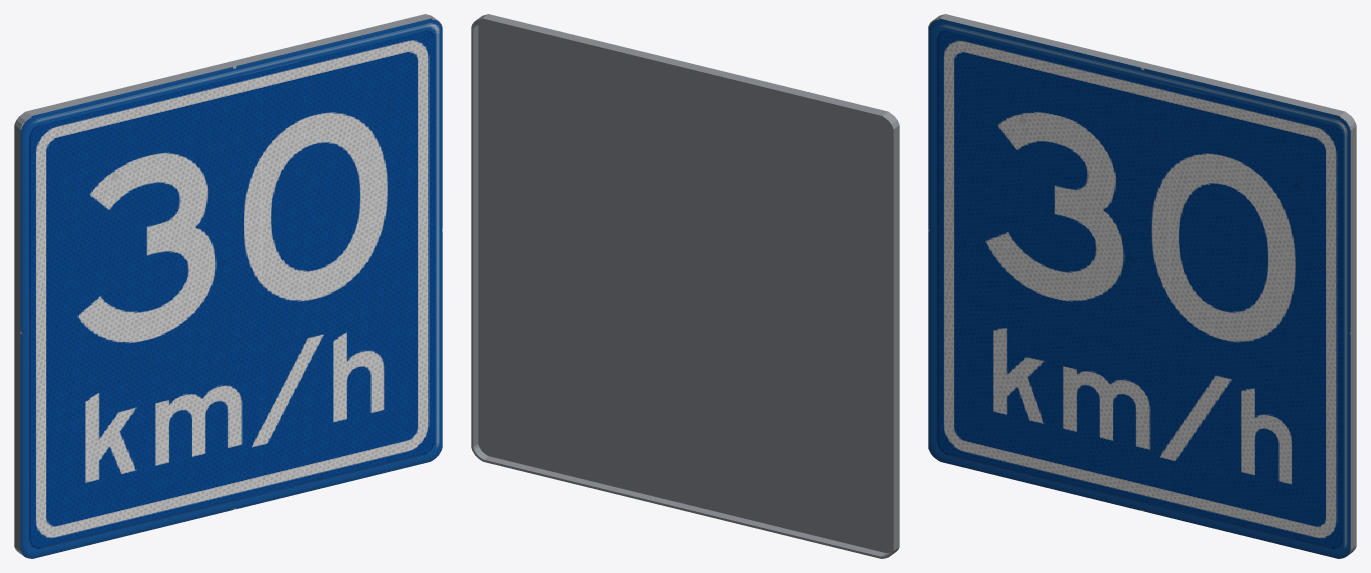
3 renders of one model, left to right at view 1: azimuth 30°, elevation 25°; view 2: azimuth 150°, elevation 25°; view 3: azimuth 330°, elevation 25°, orthographic.
Parts seen in each view (by area): view 1: cat_e606e8e49ec9f3db; view 2: cat_e606e8e49ec9f3db; view 3: cat_e606e8e49ec9f3db.
Part boxes in pixels (left/top/right/bottom): cat_e606e8e49ec9f3db: left=14, top=14, right=442, bottom=558; cat_e606e8e49ec9f3db: left=471, top=14, right=899, bottom=558; cat_e606e8e49ec9f3db: left=928, top=14, right=1356, bottom=558.
Size of the model in its own units: 0.6 by 0.015 by 0.6014.
2 materials, 1 textured.
